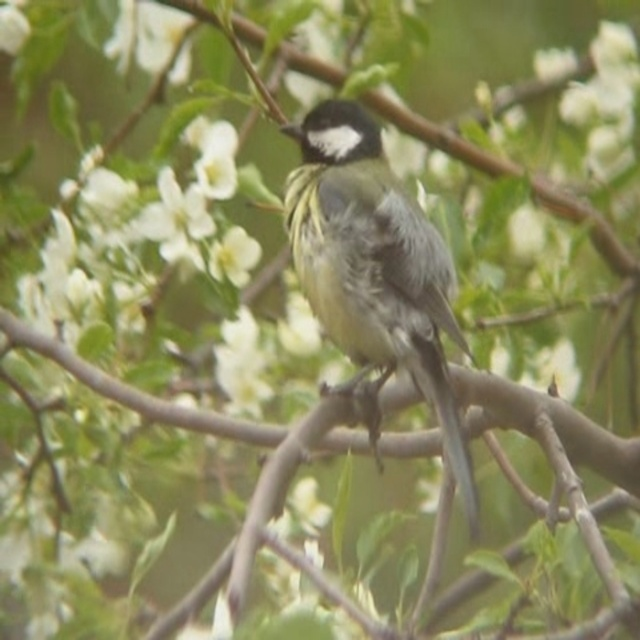Sparrow: (280, 101, 500, 526)
